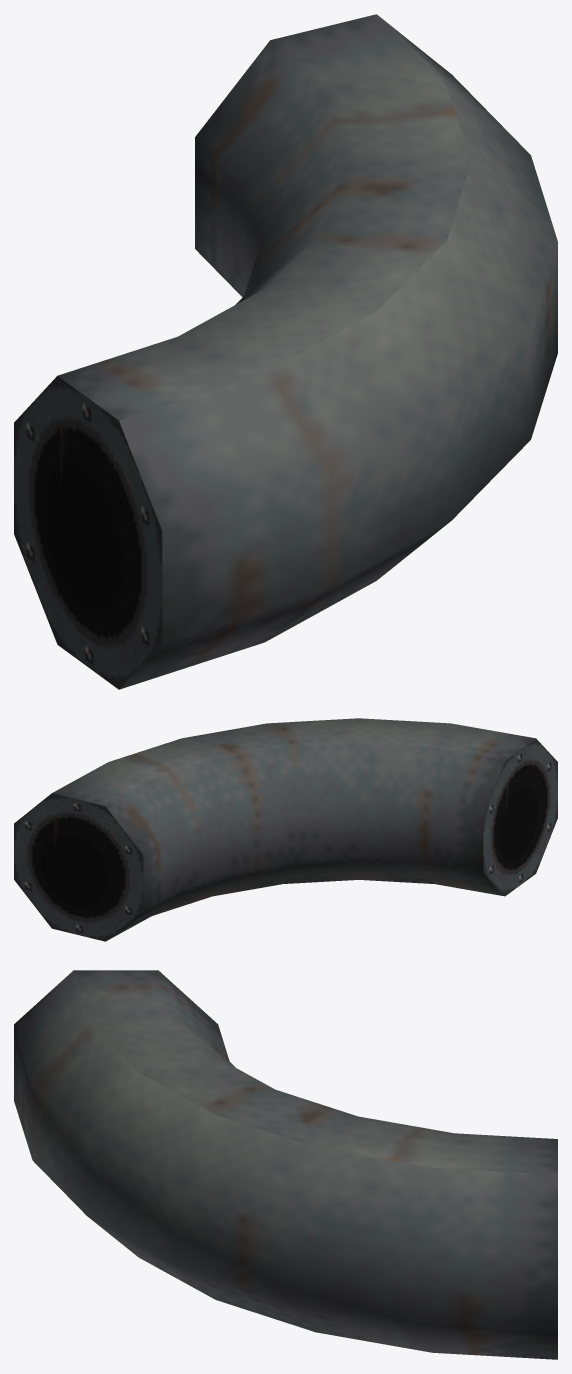
The model's file is SKC-PSX_02_PipeElbow90.fbx.
The picture shows the model from 3 angles, top to bottom: view 1: azimuth 30°, elevation 25°; view 2: azimuth 150°, elevation 25°; view 3: azimuth 270°, elevation 25°; orthographic projection. The views are drawn at different scales.
Visible parts, largest first — view 1: SKC-PSX_02_PipeElbow90; view 2: SKC-PSX_02_PipeElbow90; view 3: SKC-PSX_02_PipeElbow90.
Boxes of the visible parts, <box> form: SKC-PSX_02_PipeElbow90: <box>14,14,557,689</box>; SKC-PSX_02_PipeElbow90: <box>14,718,557,941</box>; SKC-PSX_02_PipeElbow90: <box>14,970,557,1359</box>.
Size of the model in its own units: 24.62 by 9.24 by 24.62.
Materials: 1 (1 with a texture image).
